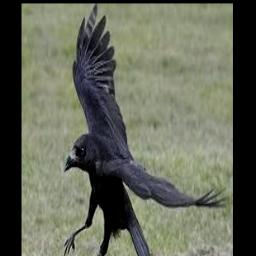Crow: (64, 3, 226, 256)
